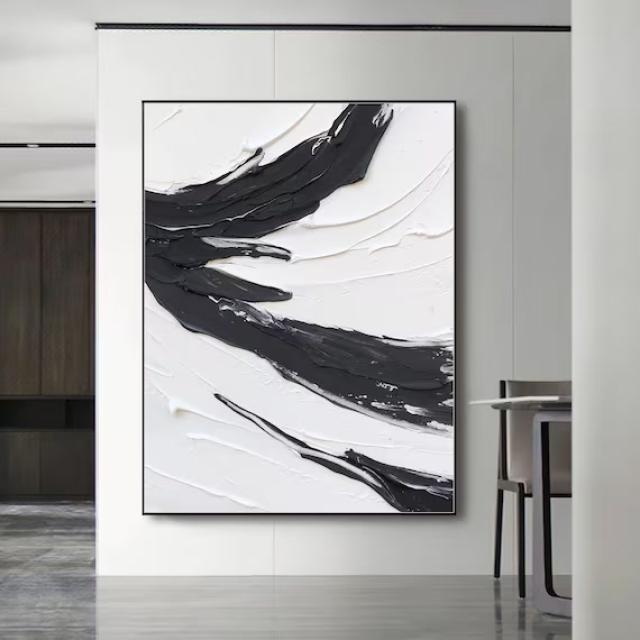painting: (141, 97, 457, 514)
